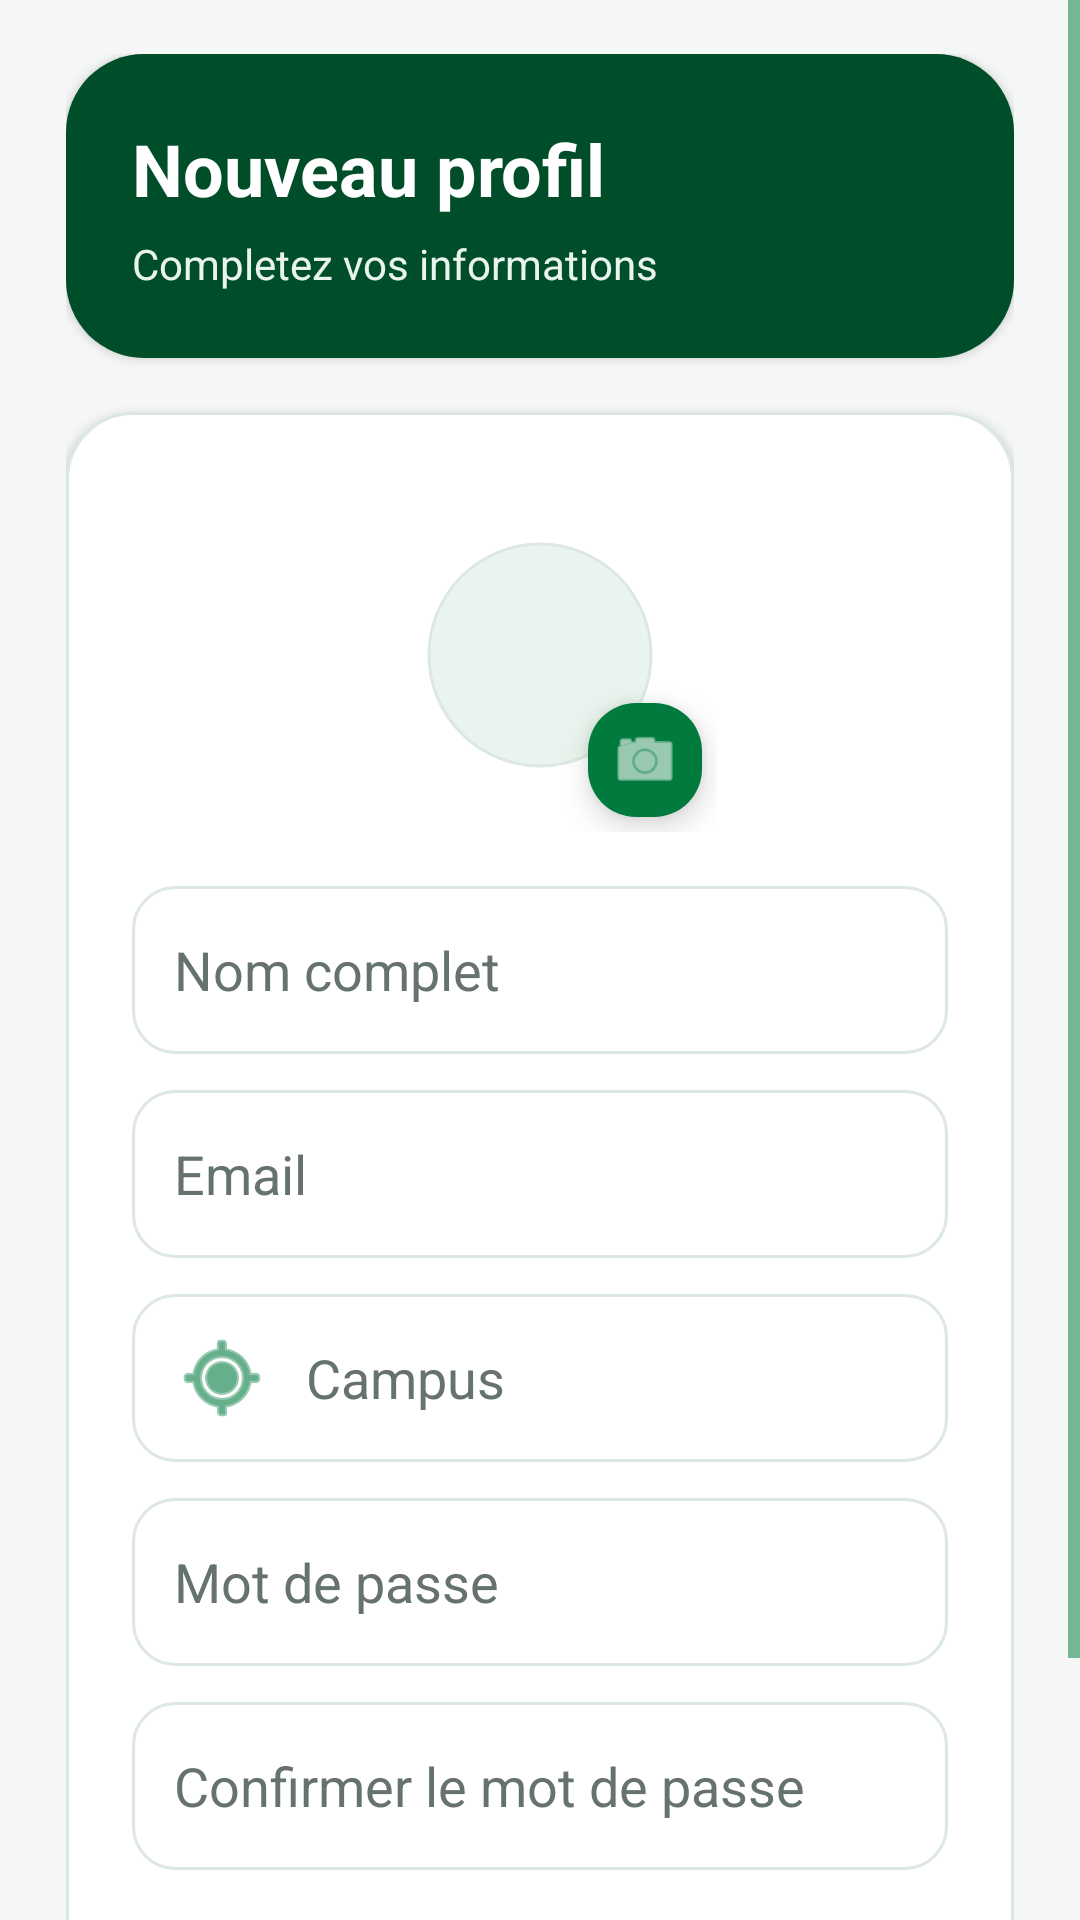

Screen size 1080 × 1920. Icon name, then its box in pixels as (x1, y1, x2, y2):
Ajouter une photo: (573, 688, 702, 821)
